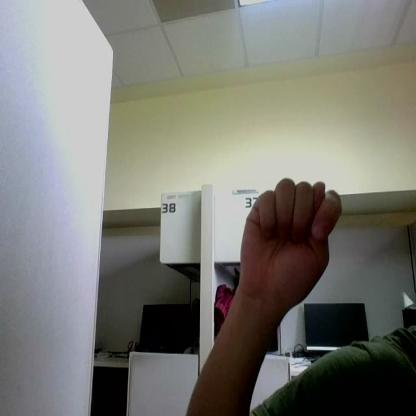T: (241, 178, 341, 306)
